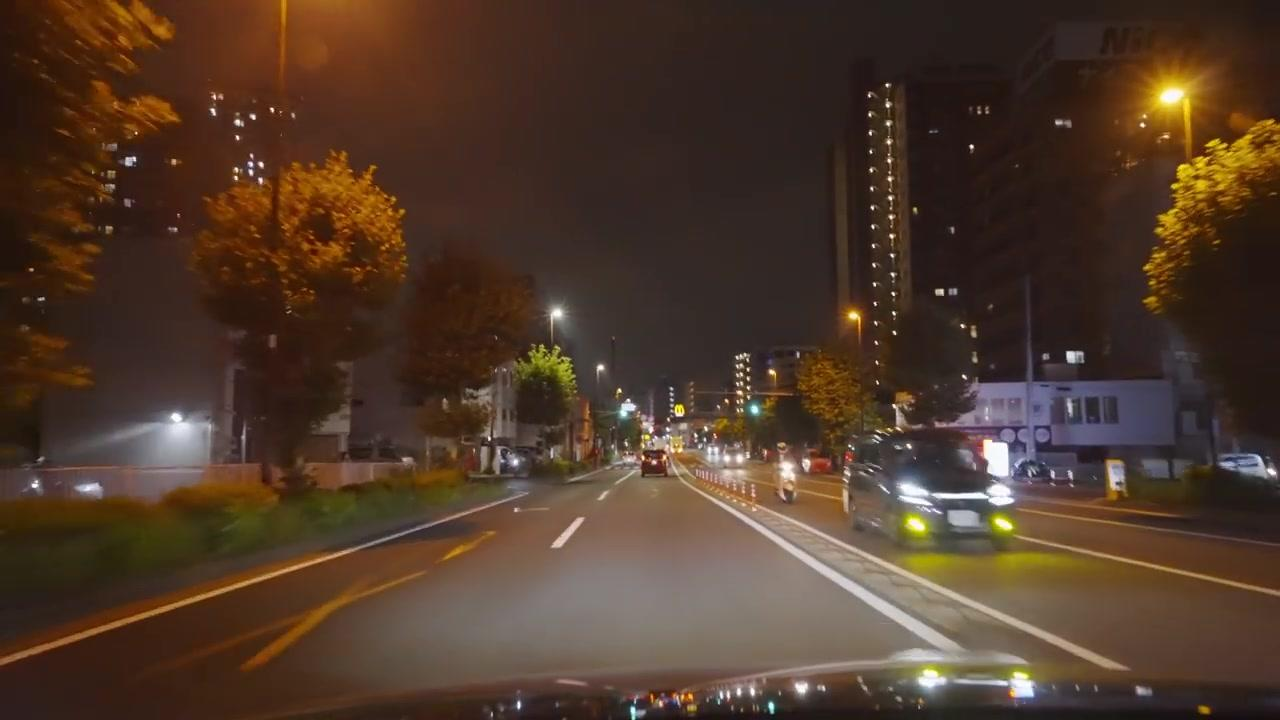car: (838, 427, 1018, 553), (1217, 453, 1279, 484), (1011, 458, 1073, 486), (801, 447, 835, 474), (641, 449, 669, 477)
traffic light: (668, 387, 676, 415)
truck: (841, 427, 1017, 553)
